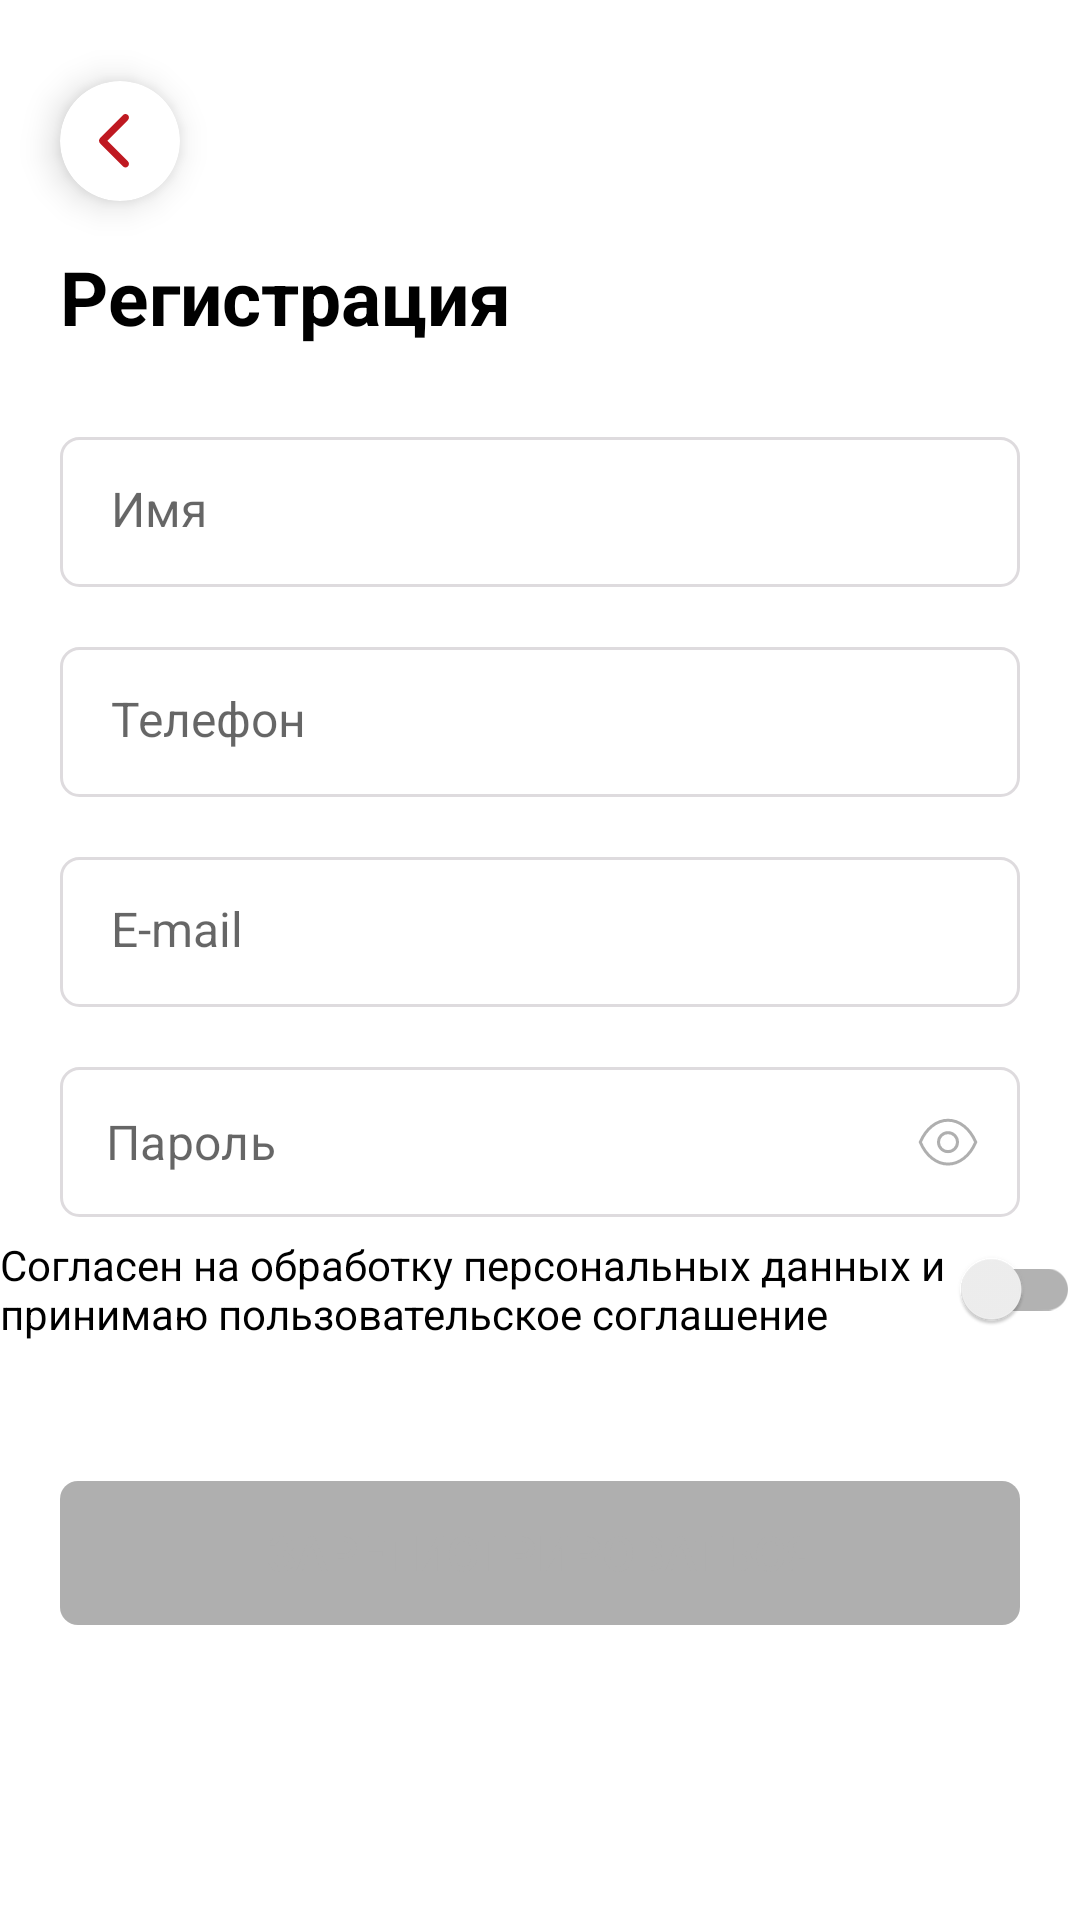

Named icons in this screenshot (1080 x 1920) and their centers, (x,y):
left: (114,141)
